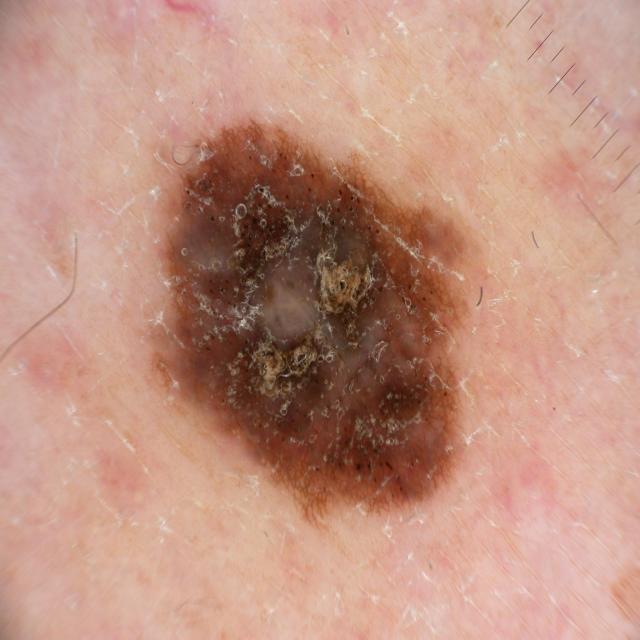Benign: (157, 112, 476, 521)
